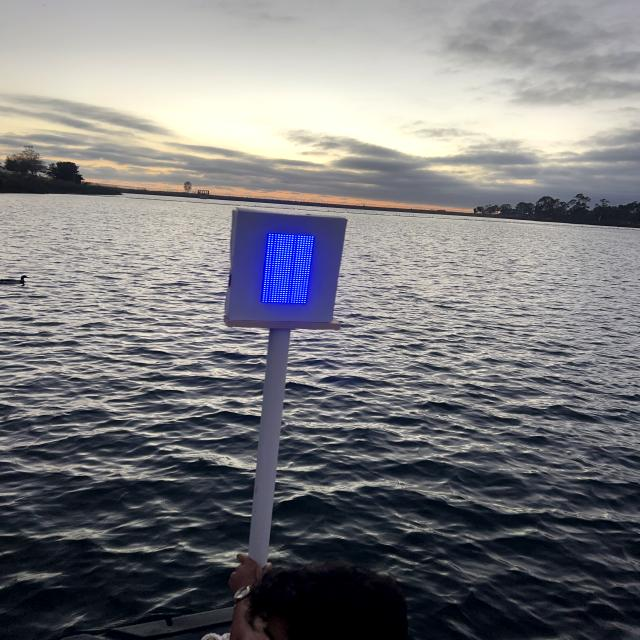led: (242, 211, 331, 328)
